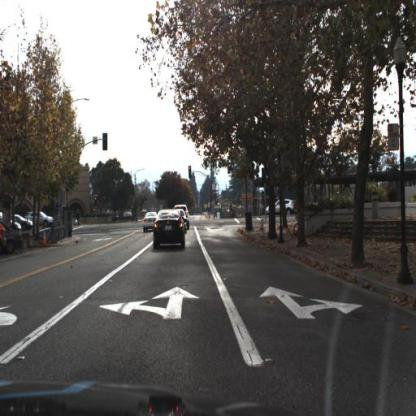car: (152, 207, 190, 251), (2, 218, 27, 254), (24, 210, 58, 231), (266, 198, 296, 219), (141, 210, 159, 234)
trafficLight-Red: (188, 165, 194, 180)
trafficLight-RedLeft: (94, 195, 99, 208)
